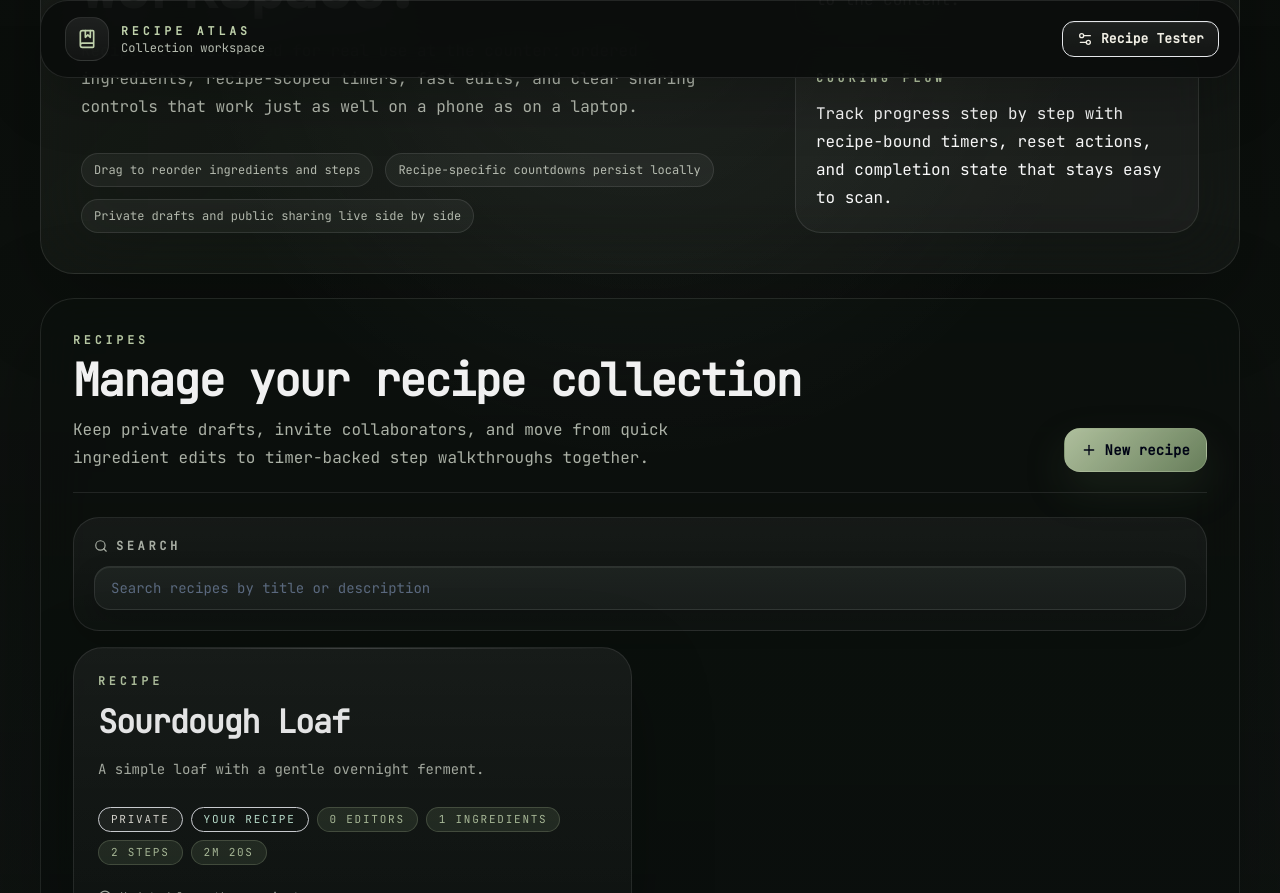
Test: RecipesPage › renders recipes and creates a new one
(page scrolled)
Check: the heading "Sourdough Loaf" is shown, box [98,700,349,744]
Click the button "New recipe" at (1135, 450), box [1064,428,1207,472]
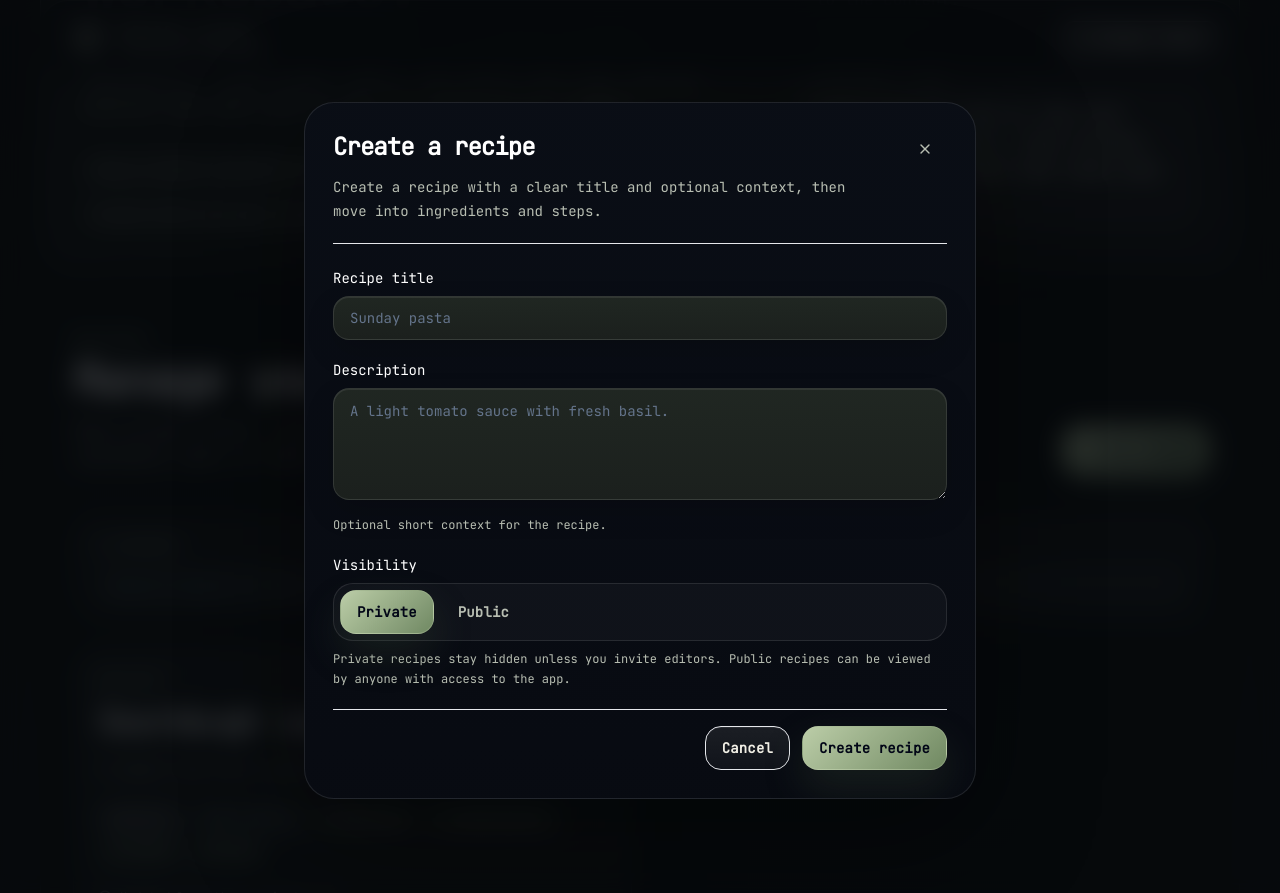
Type "Pasta Night" into the field labelled "Recipe title" at (640, 318), box [333,296,947,340]
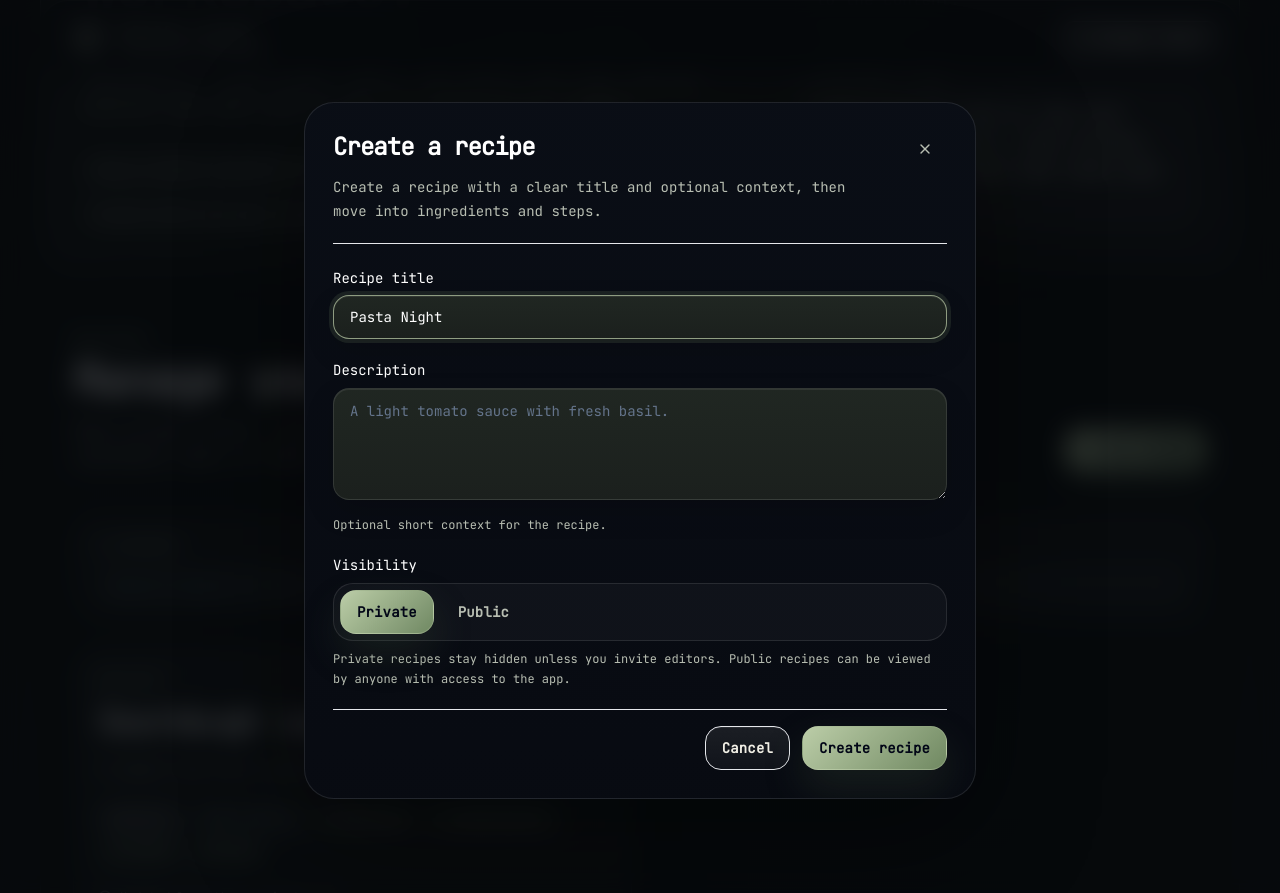
Type "Fresh basil and tomato sauce" into the text box labelled "Description Optional short context for the recipe." at (640, 444), box [333,388,947,500]
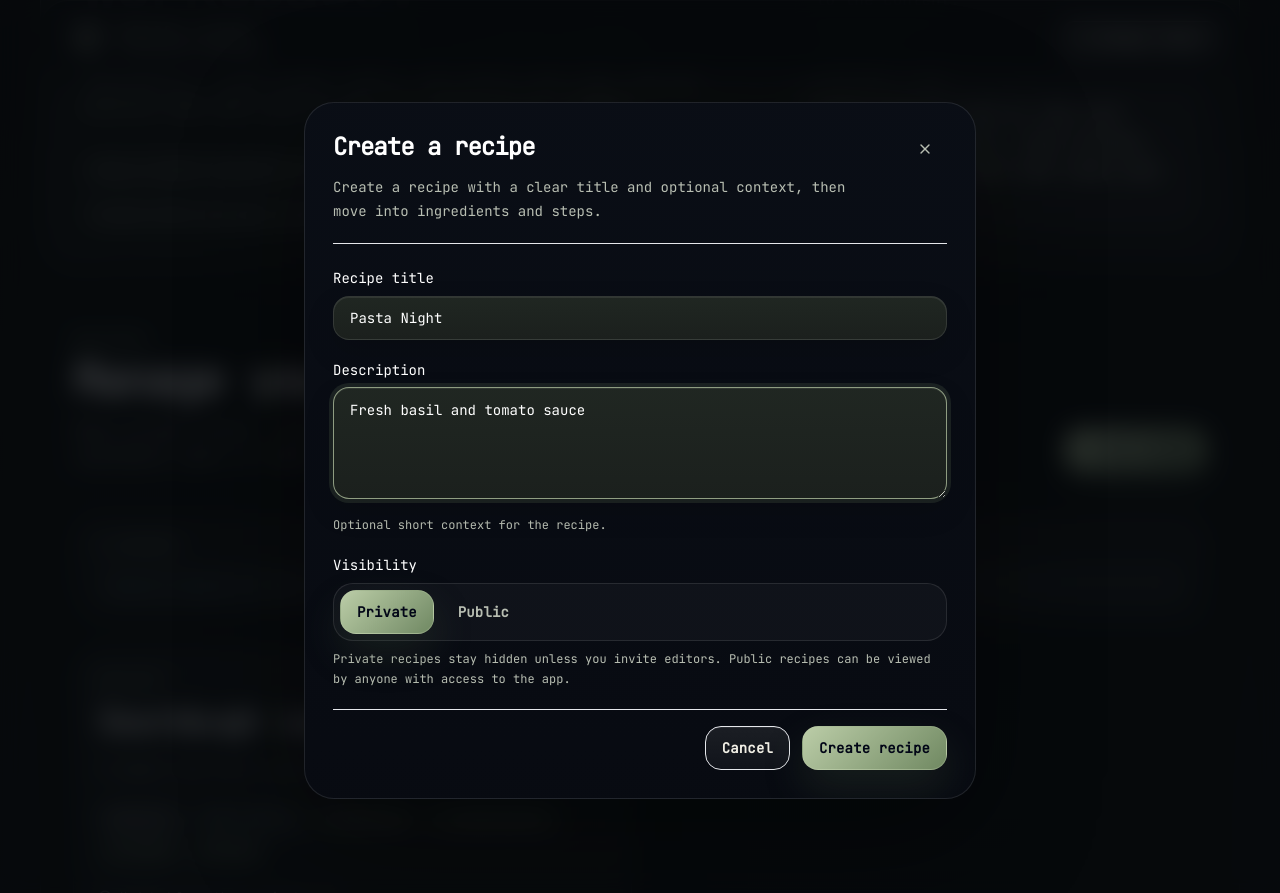
Click the button "Create recipe" at (874, 748), box [802,726,947,770]
(page scrolled)
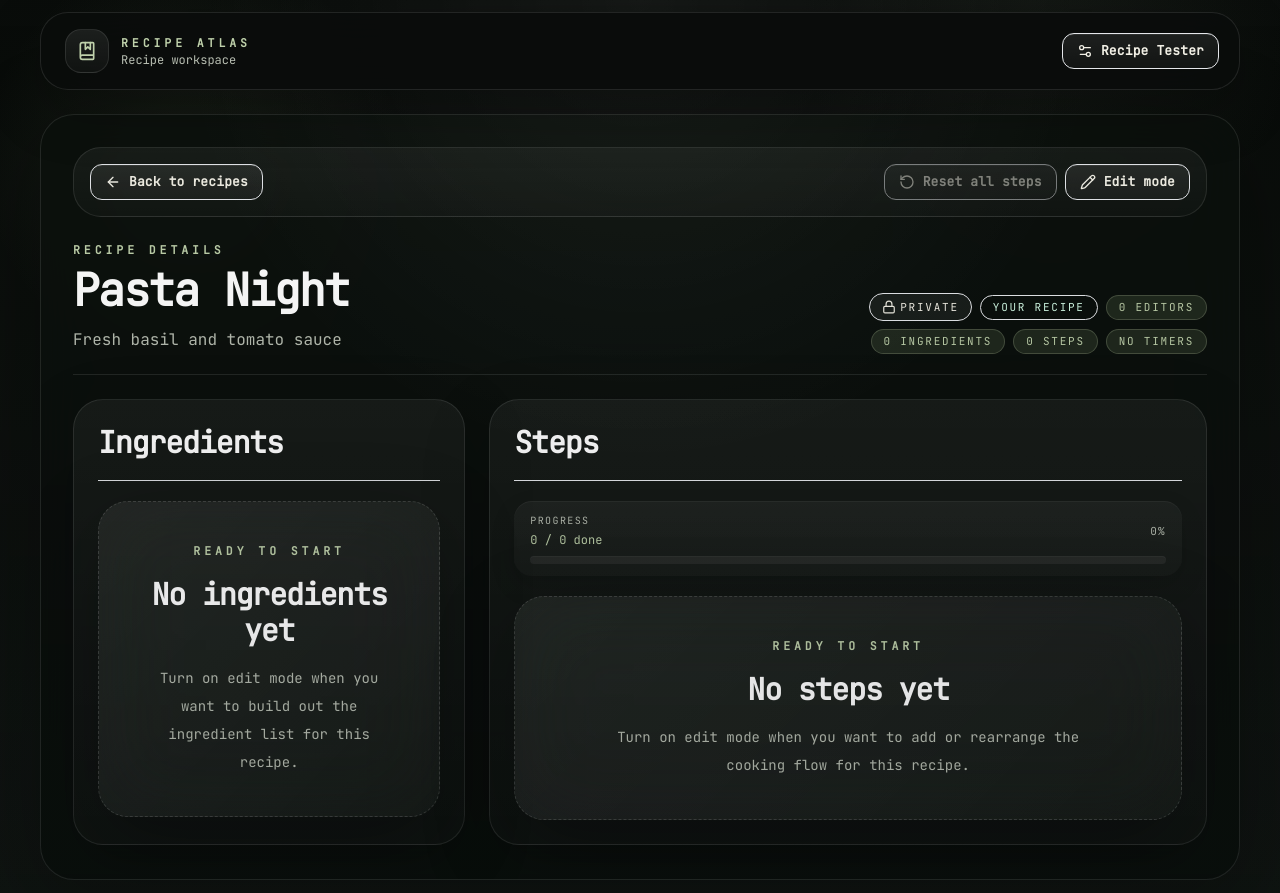
Check: the heading "Pasta Night" is shown, box [73,260,349,319]
